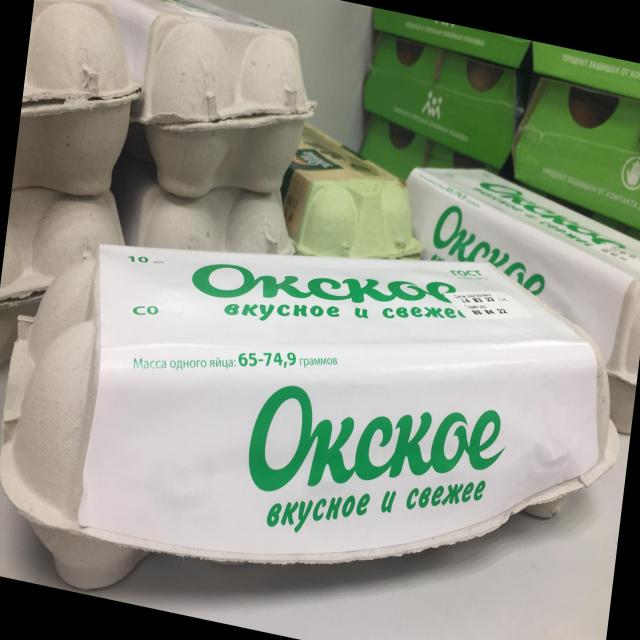organic waste: (0, 160, 640, 640), (127, 0, 323, 220)
